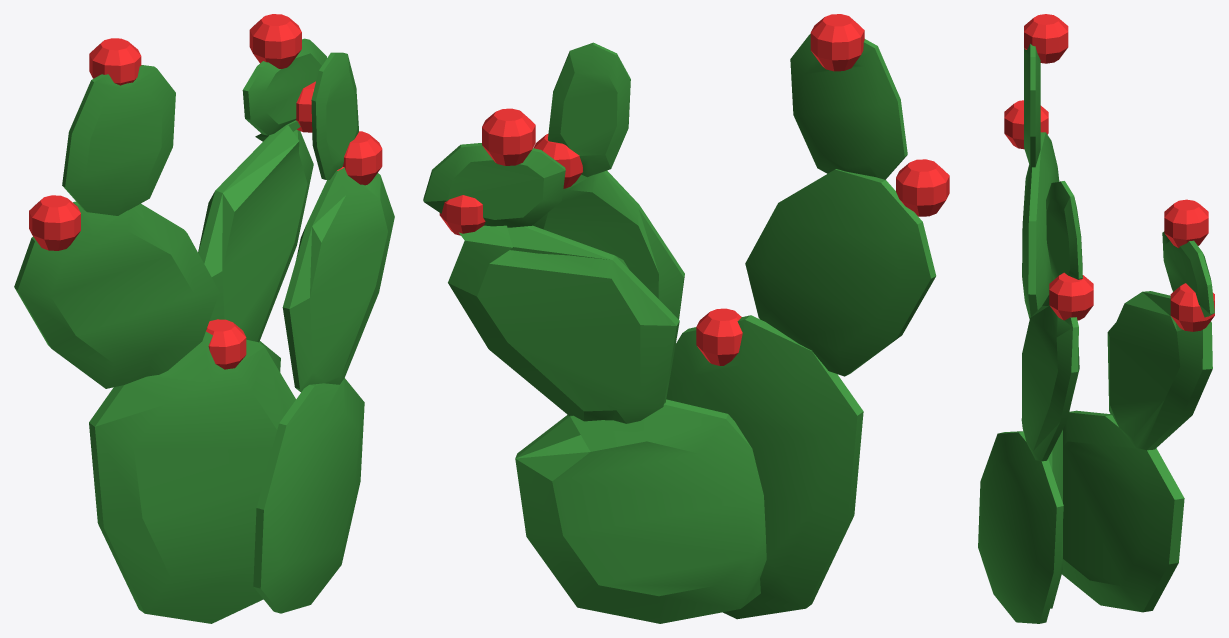
File: cactusThin.dae
3 renders of one model, left to right at view 1: azimuth 30°, elevation 25°; view 2: azimuth 150°, elevation 25°; view 3: azimuth 270°, elevation 25°, orthographic. The views are drawn at different scales.
Visible parts, largest first — view 1: Cactus_14; view 2: Cactus_14; view 3: Cactus_14.
Boxes of the visible parts, bbox=[...] form: Cactus_14: bbox=[14, 14, 394, 623]; Cactus_14: bbox=[423, 14, 949, 623]; Cactus_14: bbox=[978, 14, 1214, 623].
Size of the model in its own units: 134 by 189 by 76.18.
